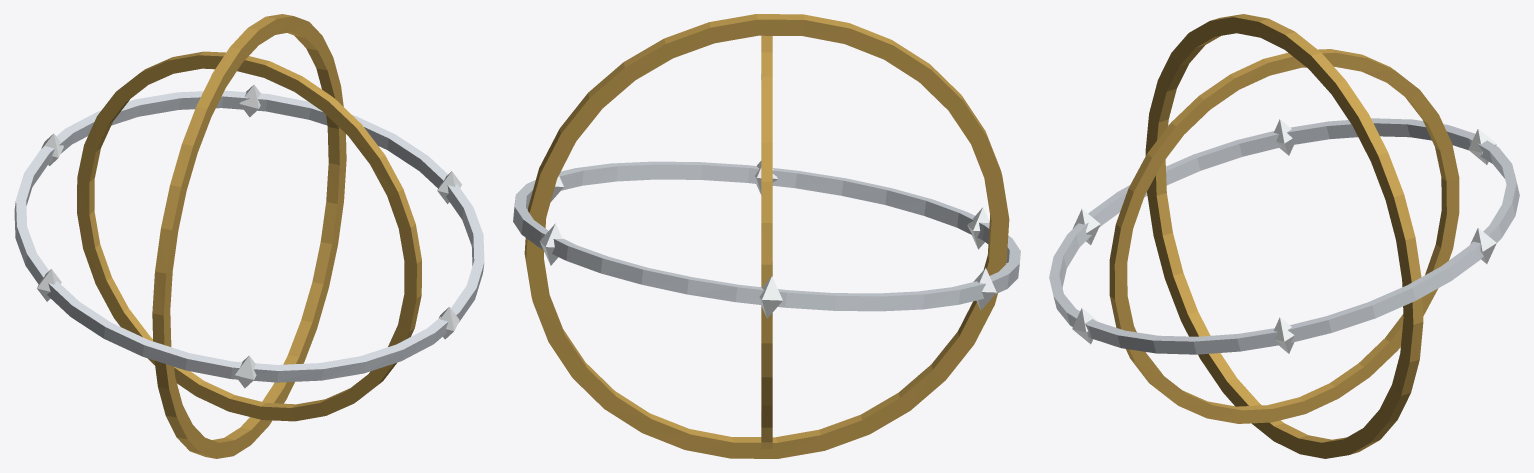
Rendered from TravelBeaconRings.obj.
3 renders of one model, left to right at view 1: azimuth 30°, elevation 25°; view 2: azimuth 150°, elevation 25°; view 3: azimuth 270°, elevation 25°, orthographic. The views are drawn at different scales.
Bounding box in the file's own units: 2.38 × 2.18 × 2.25.
